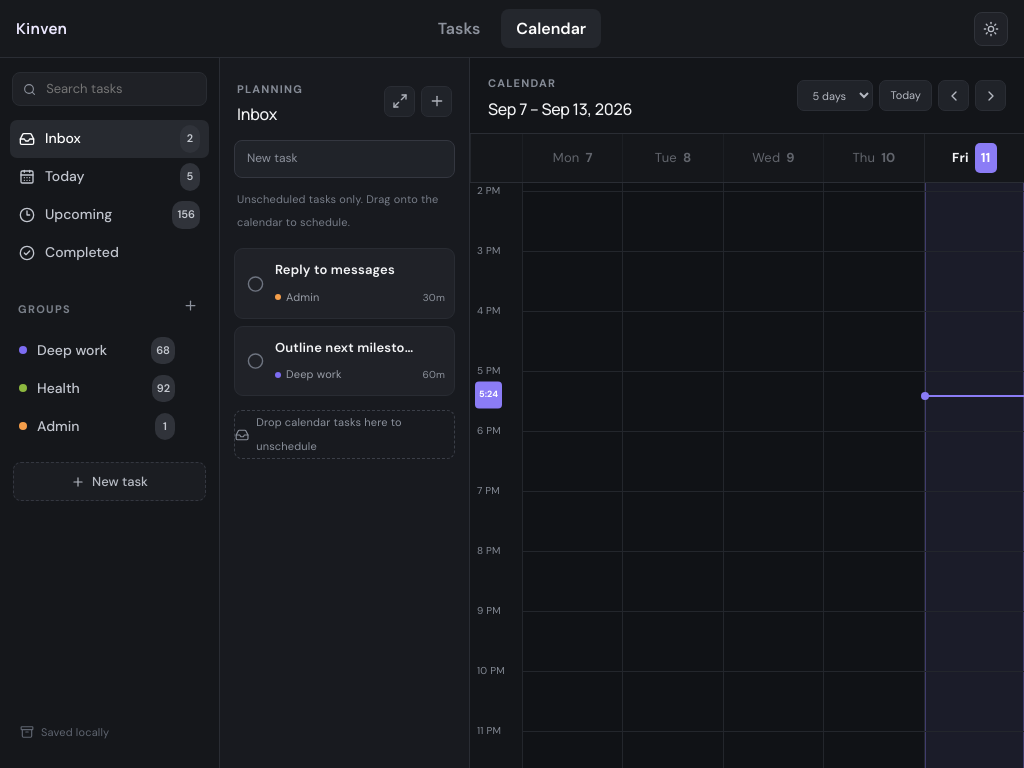
task list regressions › deletes all completed tasks from the completed view
(page scrolled)
Click the button named "Mark Reply to messages complete". click: (255, 284)
box: [244,273,266,295]
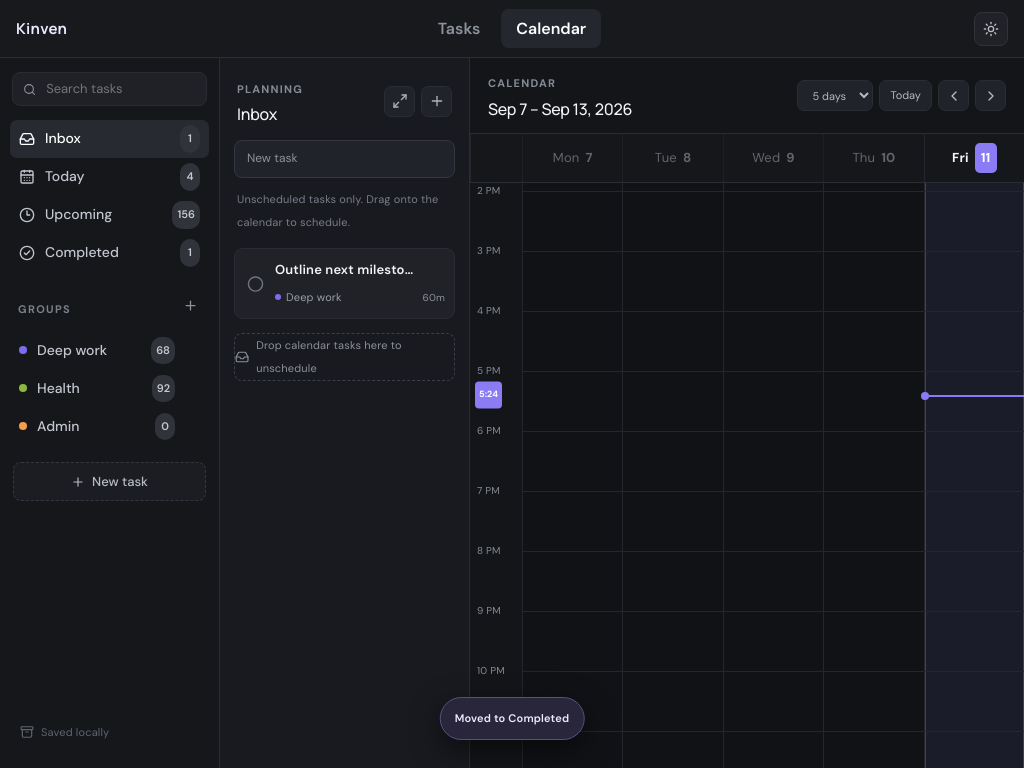
Click the button "Tasks". click: (459, 28)
box: [423,9,495,48]
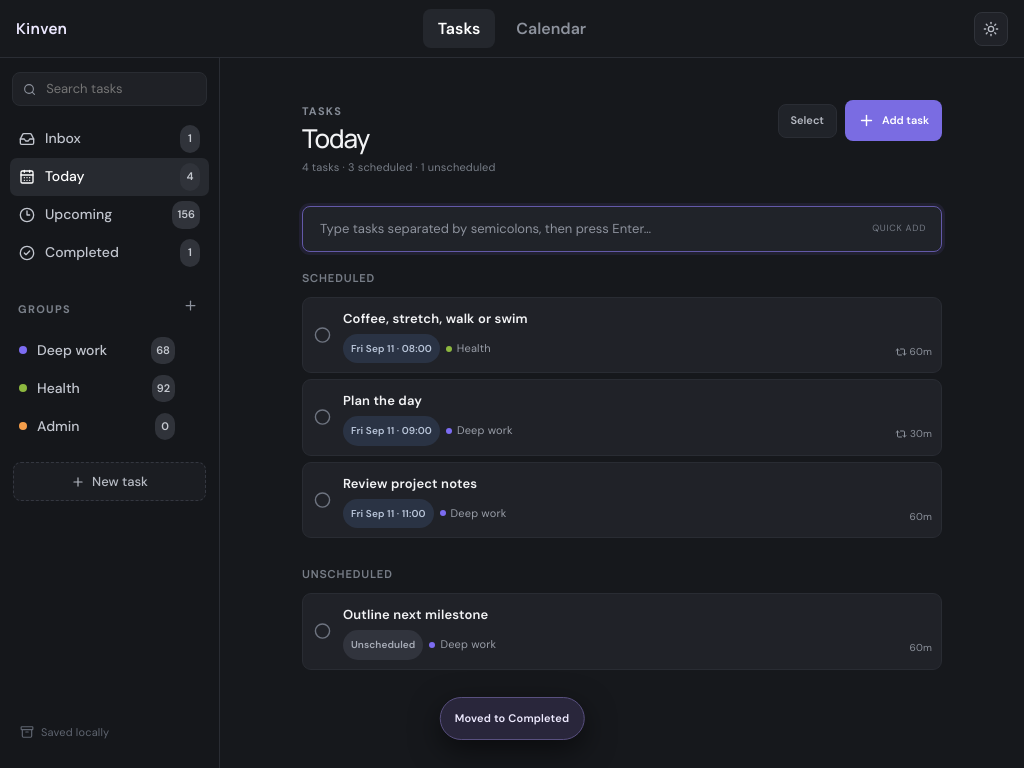
Click the button "Completed 1". click: (110, 253)
box: [10,234,209,272]
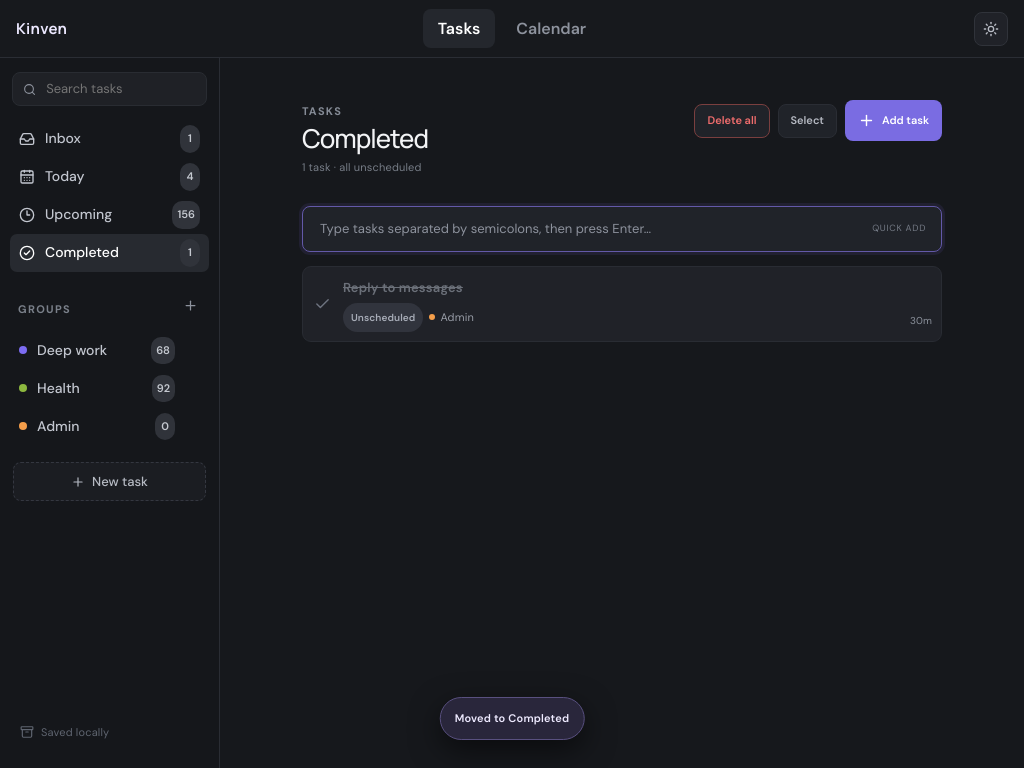
Click the button "Delete all". click: (732, 121)
box: [694,104,770,138]
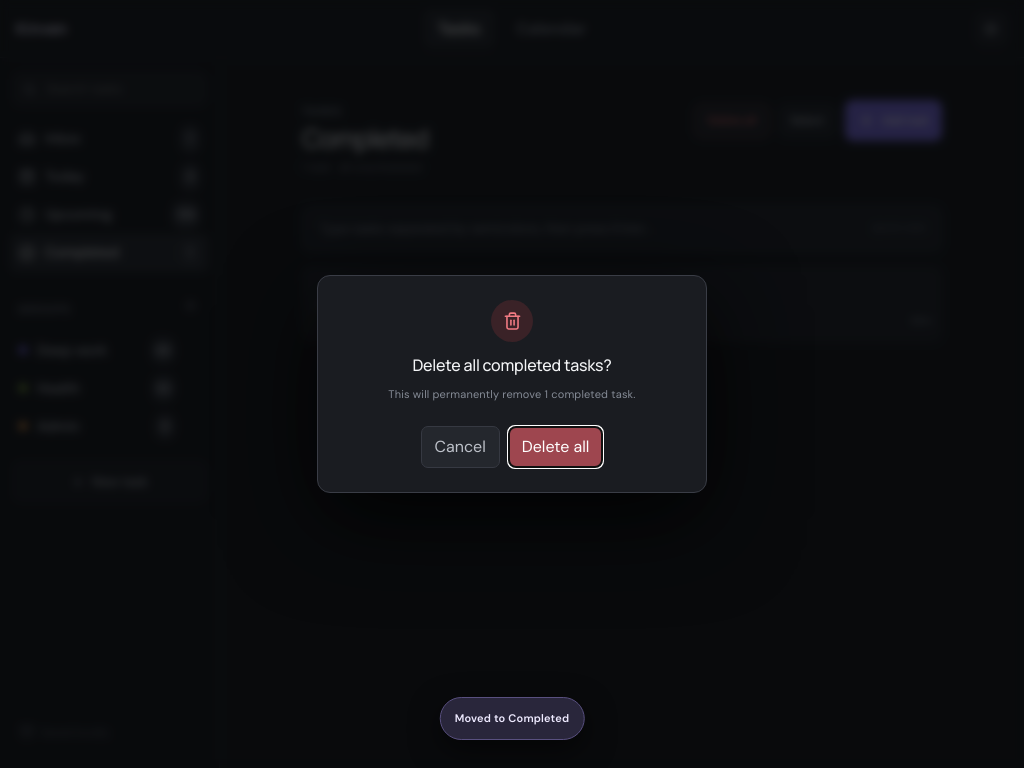
Click the button "Delete all". click: (556, 447)
box: [508,426,603,468]
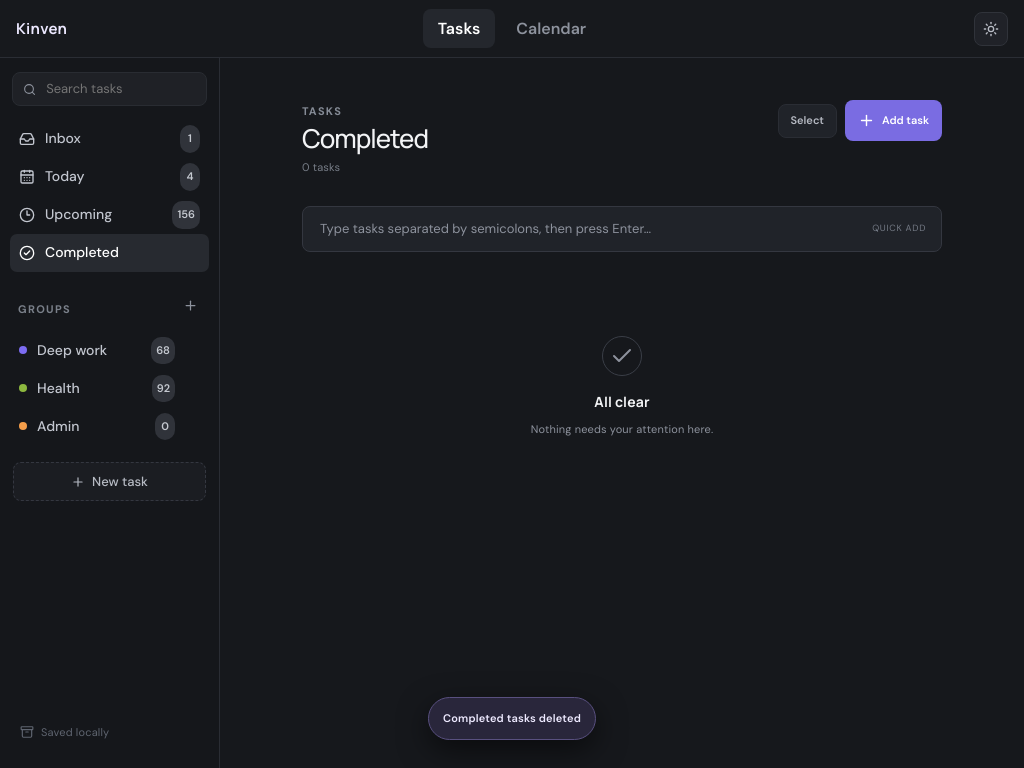
Expected: the text "Reply to messages" is gone
